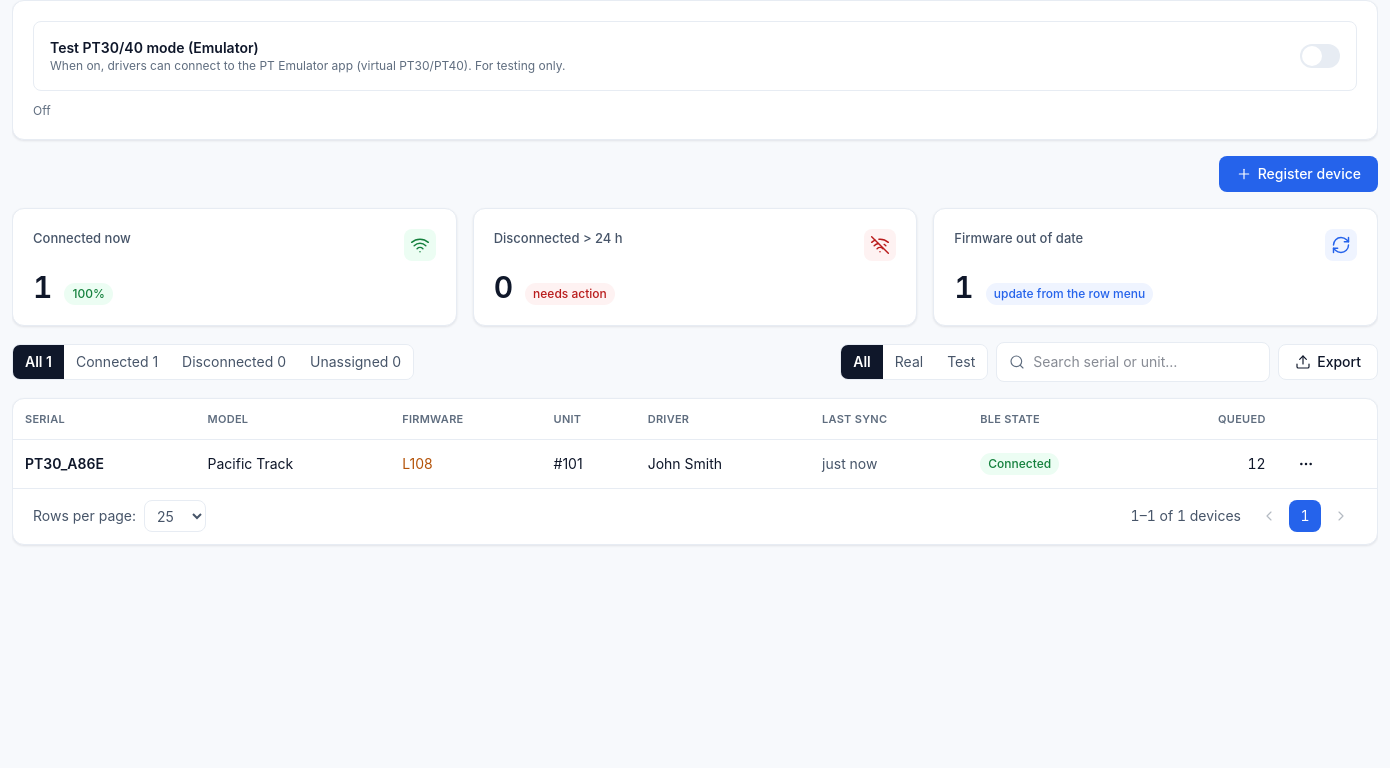
DevicesPage — W-20 › says so when Unpair fails instead of doing nothing visible
Expected: the text "PT30_A86E" is shown, [25,454,104,474]
Click the button named "Row actions" at x=1306, y=464, box [1290,448,1322,480]
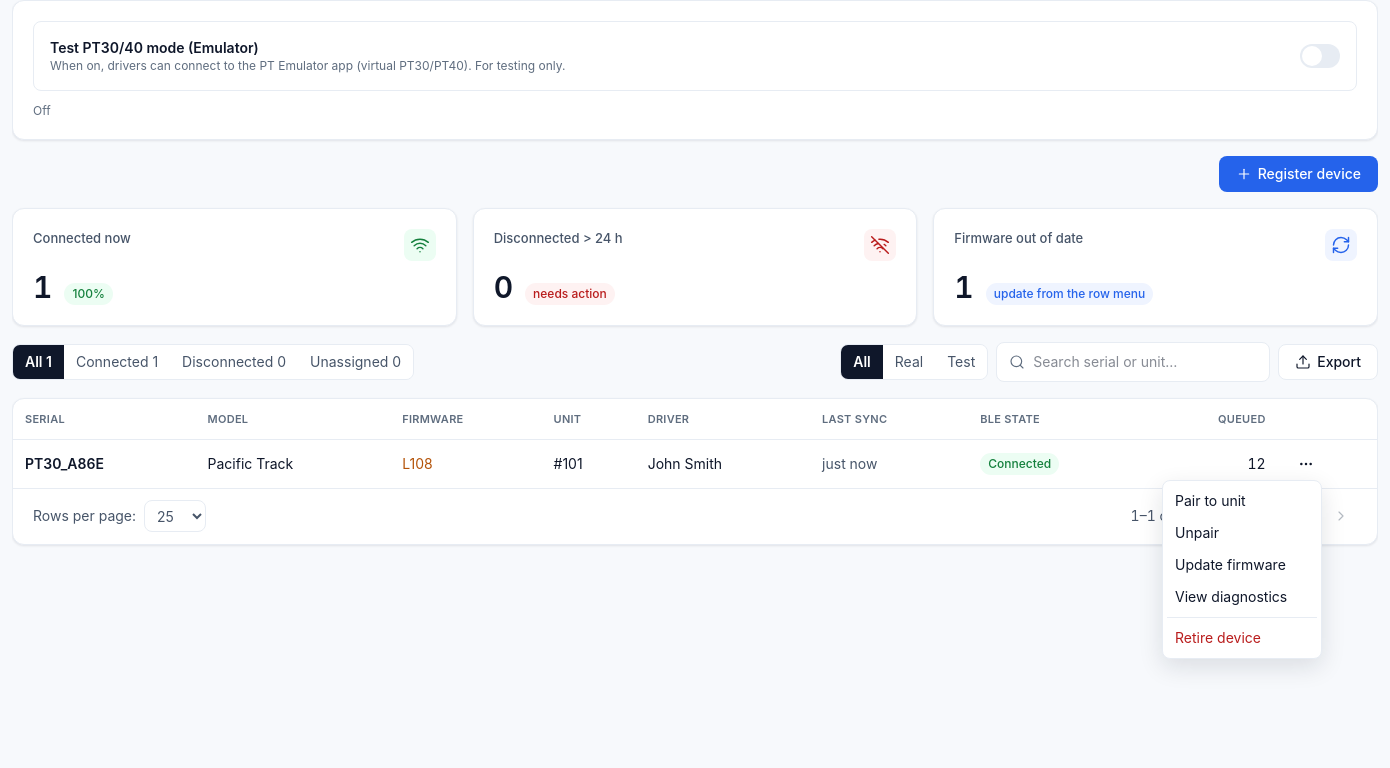
Click the menu item "Unpair" at x=1197, y=532, box [1175,524,1219,541]
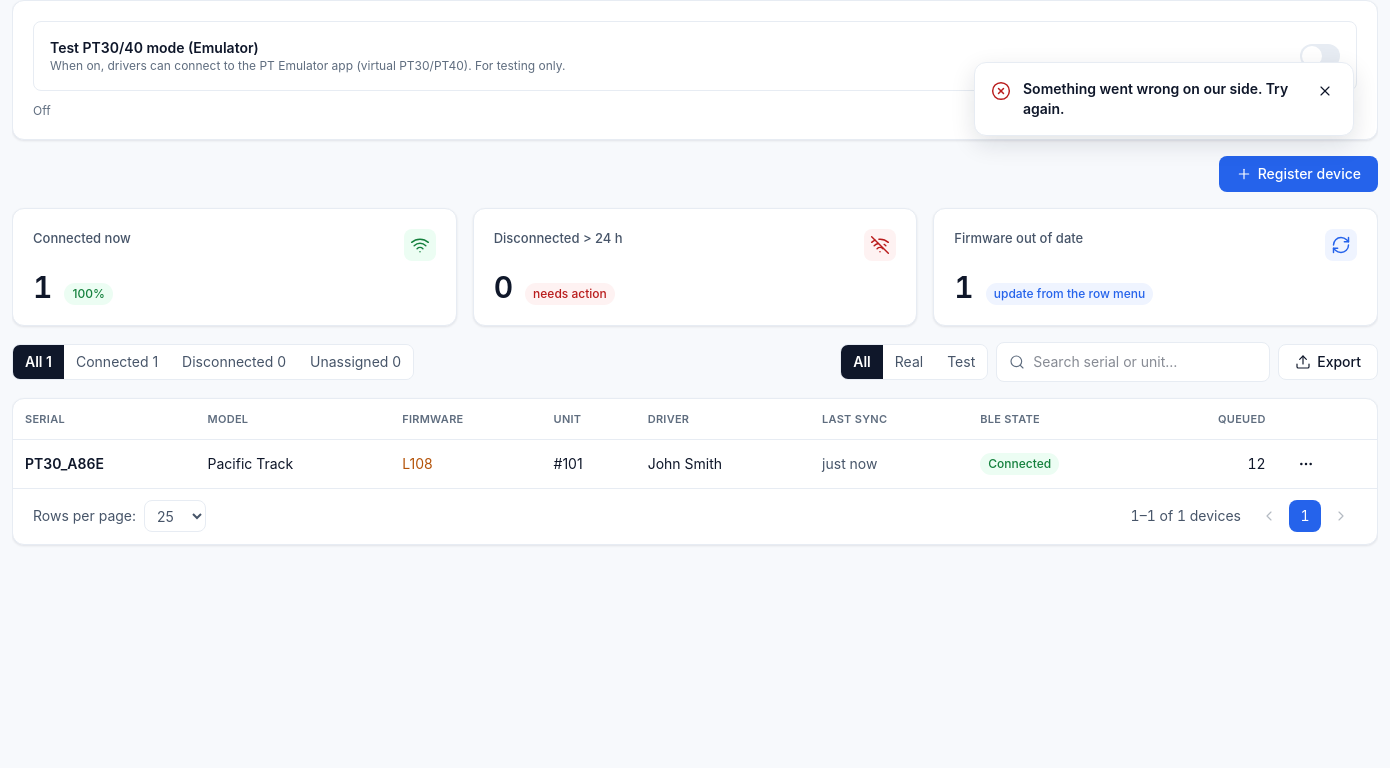
Result: the text "Something went wrong on our side. Try again." is shown at [1023,79,1301,119]
